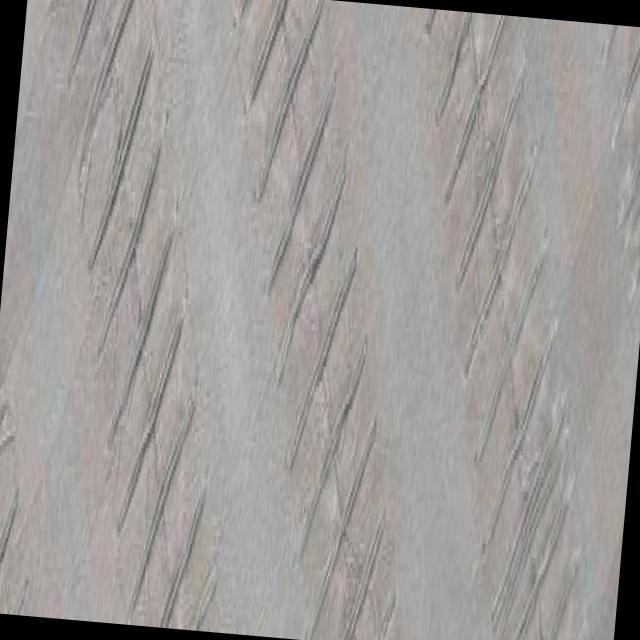gray stitch: (29, 0, 261, 621), (215, 12, 440, 639), (398, 10, 618, 640), (0, 378, 32, 614)
